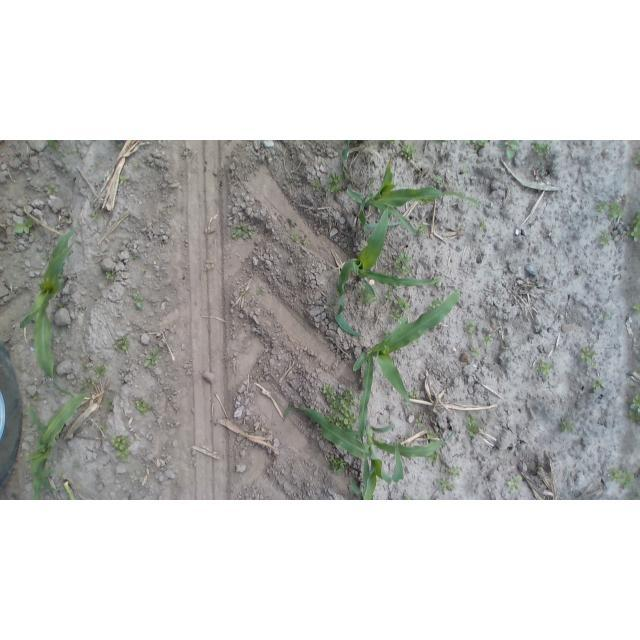Maize: (354, 291, 463, 442), (292, 404, 455, 501), (334, 206, 440, 338), (344, 146, 481, 235), (21, 225, 85, 396), (28, 383, 89, 500), (62, 480, 79, 501)
Weeds: (608, 467, 638, 489), (112, 435, 131, 461), (338, 390, 355, 418), (231, 222, 255, 240), (627, 213, 640, 243), (532, 141, 553, 159), (628, 391, 640, 422), (400, 143, 418, 162), (114, 335, 131, 355), (395, 252, 411, 273), (14, 218, 33, 235), (436, 477, 456, 493), (335, 416, 357, 430), (144, 346, 158, 368), (581, 347, 597, 366), (467, 415, 480, 438), (327, 173, 341, 194), (504, 140, 520, 158), (507, 475, 522, 493), (329, 458, 347, 473), (608, 202, 624, 218), (324, 384, 337, 403), (136, 399, 153, 413), (538, 361, 553, 376), (132, 293, 145, 310), (559, 419, 574, 433), (360, 292, 376, 305), (393, 297, 409, 310), (465, 319, 477, 334), (428, 297, 440, 312), (631, 149, 640, 168), (445, 465, 459, 476), (390, 311, 405, 321), (415, 222, 427, 234), (592, 378, 603, 391), (598, 234, 610, 245), (97, 366, 108, 378), (596, 201, 607, 212), (429, 455, 440, 466), (325, 413, 336, 424), (291, 233, 301, 244), (472, 140, 489, 146), (45, 185, 55, 195), (433, 176, 444, 184), (409, 391, 420, 399), (384, 291, 392, 302), (484, 337, 493, 346), (106, 271, 114, 281), (633, 303, 640, 314), (314, 180, 323, 188), (471, 348, 480, 356), (100, 423, 109, 431), (120, 175, 127, 184), (93, 212, 99, 220), (135, 161, 141, 167)
